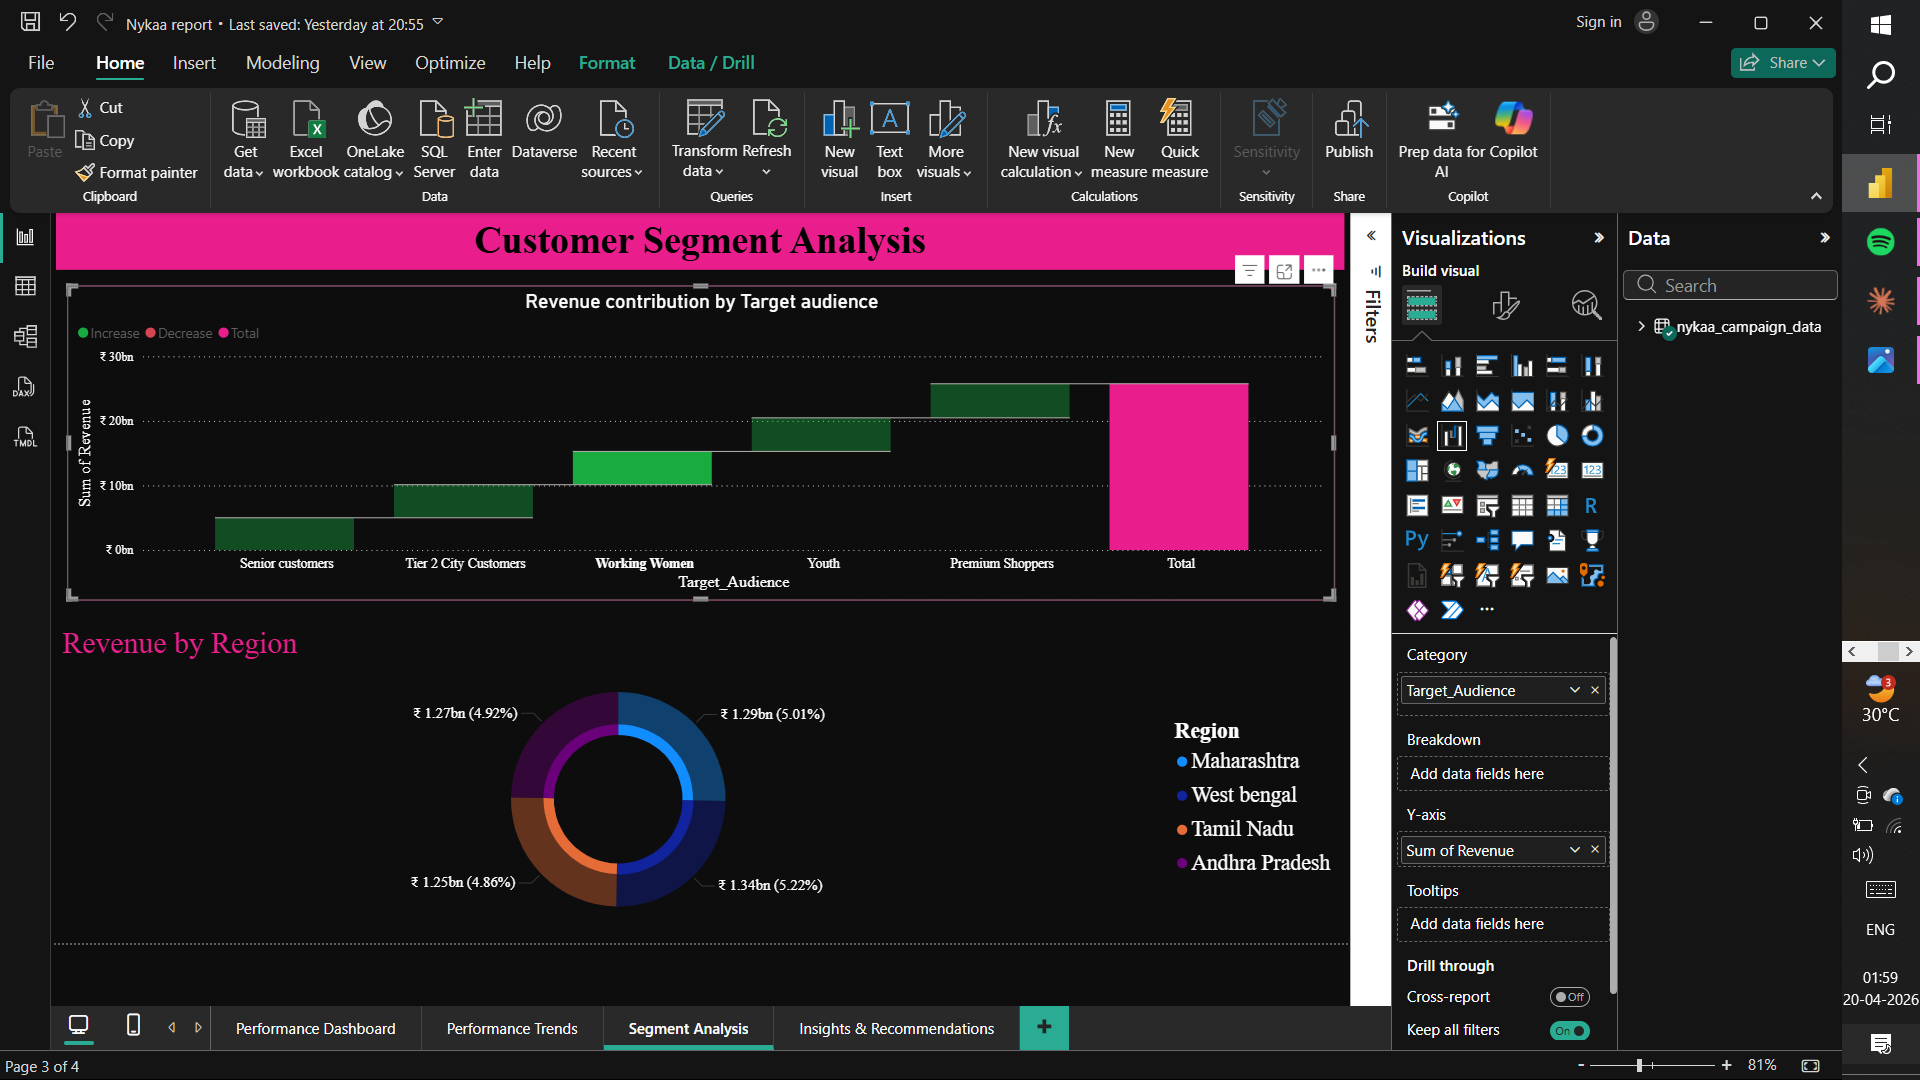

The dashboard page shown, as its layout file describes it:
{"tool":"powerbi","page":{"name":"Segment Analysis","canvas":[1280,720],"ordinal":2},"visuals":[{"type":"textbox","box":[5.3,0,1269.4,55.8],"z":0},{"type":"waterfallChart","title":"Revenue contribution by Target audience","fields":{"Category":["nykaa_campaign_data.Target_Audience"],"Y":["Sum(nykaa_campaign_data.Revenue)"]},"box":[16,71.4,1249,310.4],"z":1000},{"type":"donutChart","title":"Revenue by Region","fields":{"Category":["nykaa_campaign_data.Region"],"Y":["Sum(nykaa_campaign_data.Revenue)"]},"box":[6,406,1269,310],"z":2000}]}

Visuals, with their boxes on the page's 1280x720 design canvas (x1, y1, x2, y2). These are canvas units, not pixel positions in the 1920x1080 screenshot, which may show the page scaled, cropped or inside an application window:
textbox: Rect(5, 0, 1275, 56)
"Revenue contribution by Target audience" waterfallChart: Rect(16, 71, 1265, 382)
"Revenue by Region" donutChart: Rect(6, 406, 1275, 716)
